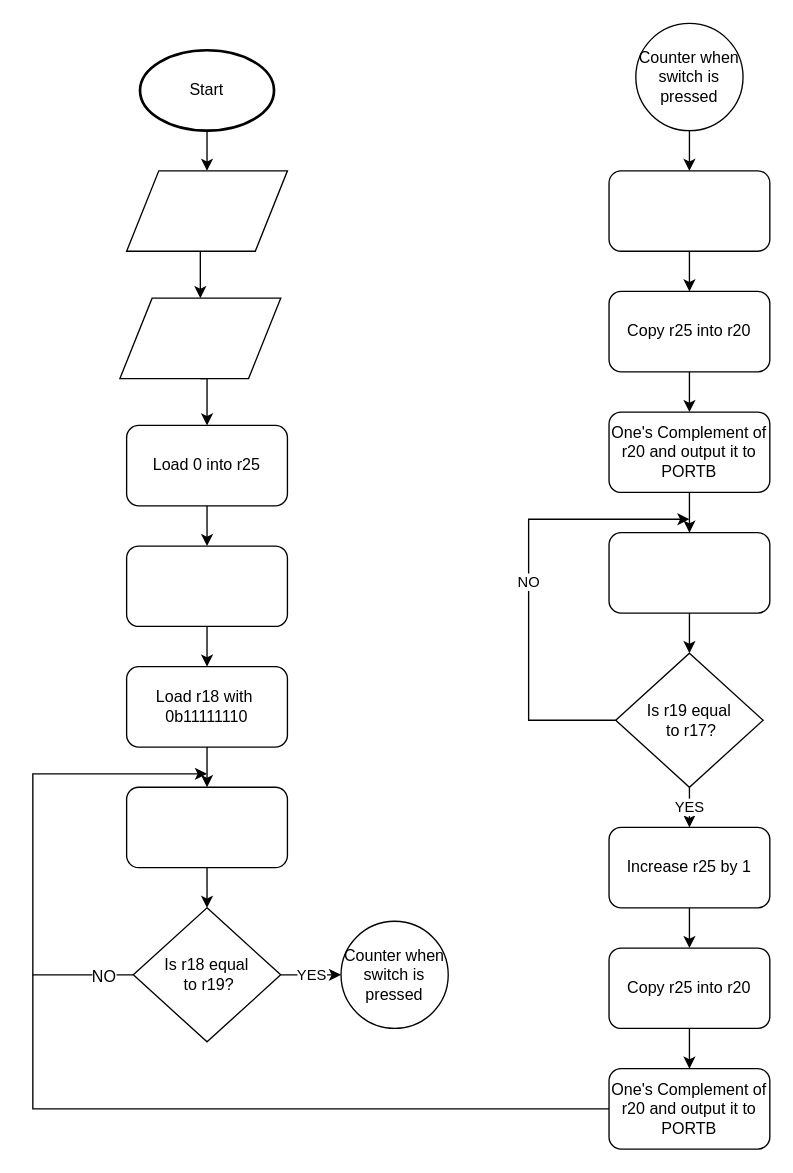
Some shapes in this 793 by 1173 pixel diagram are drawn without their labels. Each missing label, with the centre of its shape:
"Increase Counter by 1" belongs at point 689,210.
"Load R17 with 0xFF and output it to PORTB" belongs at point 206,585.
"Set PORTA as input" belongs at point 200,338.
"Set PORTB as Output" belongs at point 206,210.
"Take input from PINA and load it into r19" belongs at point 689,572.
"Take input from PINA and load it to r19" belongs at point 206,827.
